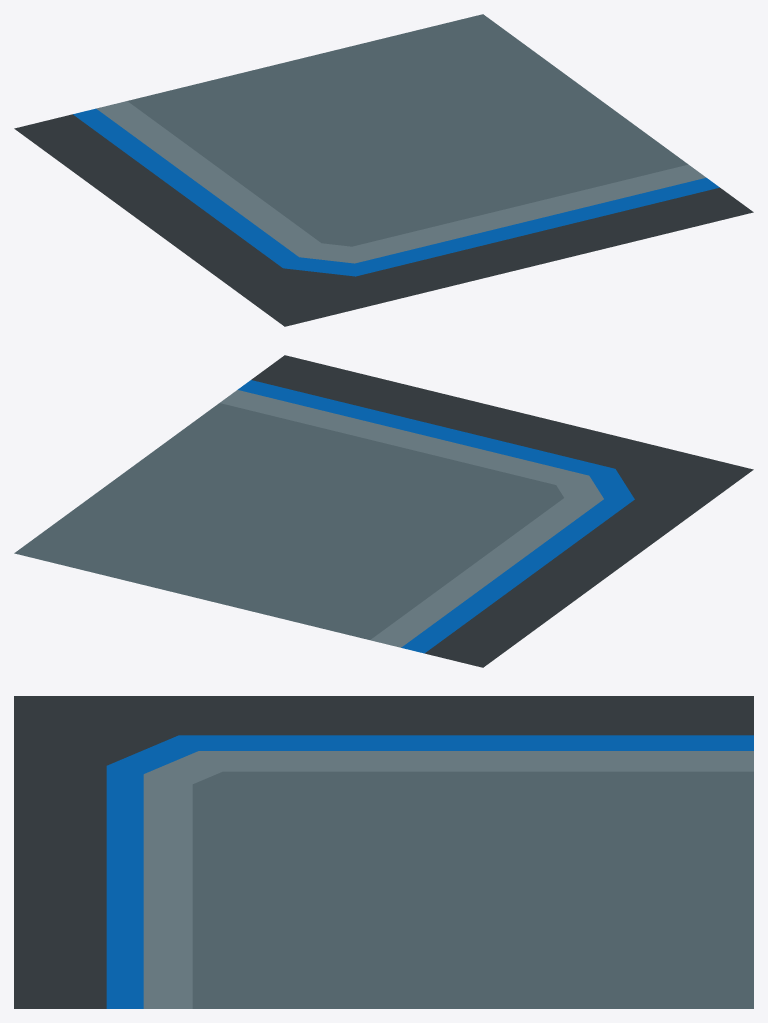
The model's file is Ceiling_type_C_045.fbx.
3 views of the same model, one above another, from view 1: azimuth 30°, elevation 25°; view 2: azimuth 150°, elevation 25°; view 3: azimuth 270°, elevation 25° (orthographic). The views are drawn at different scales.
Parts seen in each view (by area): view 1: Ceiling_type_C_045; view 2: Ceiling_type_C_045; view 3: Ceiling_type_C_045.
Boxes of the visible parts, x1,y1,x2,y2 form: Ceiling_type_C_045: [14, 14, 753, 326]; Ceiling_type_C_045: [14, 355, 753, 667]; Ceiling_type_C_045: [14, 696, 753, 1008].
Size of the model in its own units: 400 by 400 by 3.5.
